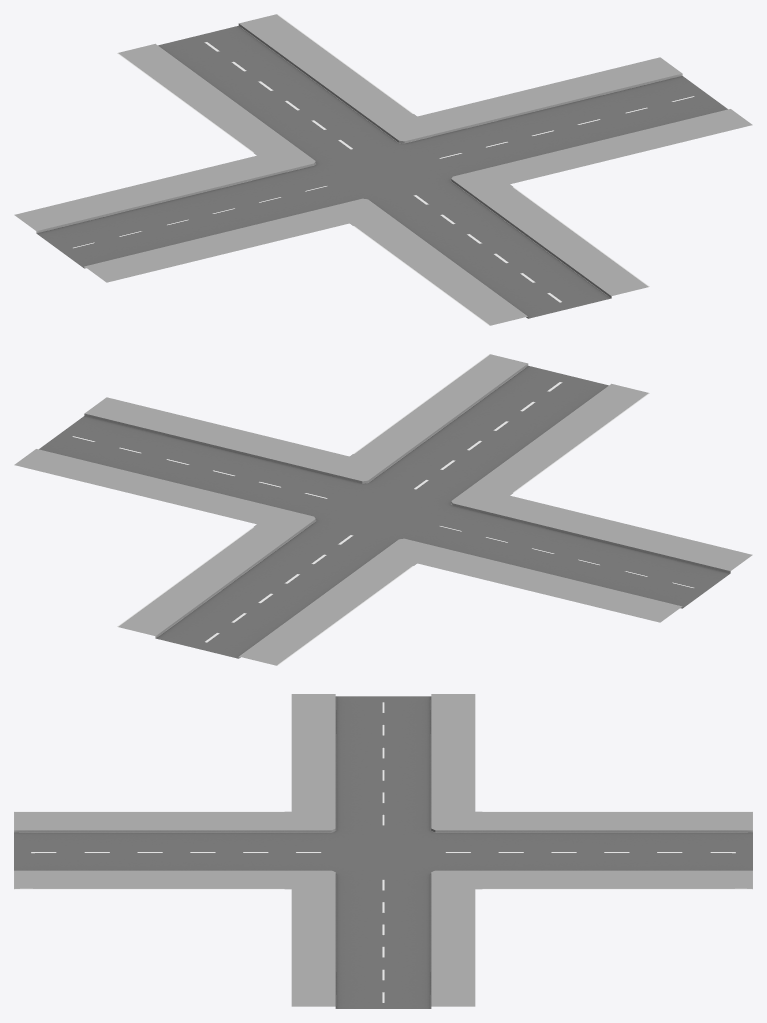
The model's file is roadTexture.gltf.
3 renders of one model, top to bottom at view 1: azimuth 30°, elevation 25°; view 2: azimuth 150°, elevation 25°; view 3: azimuth 270°, elevation 25°, orthographic.
Visible parts, largest first — view 1: Carrefour; view 2: Carrefour; view 3: Carrefour.
Part boxes in pixels (x1,y1,x2,y2): Carrefour: (14,14,752,325); Carrefour: (14,354,752,665); Carrefour: (14,694,752,1008).
Size of the model in its own units: 201 by 0.6773 by 201.
Materials: 1 (1 with a texture image).
